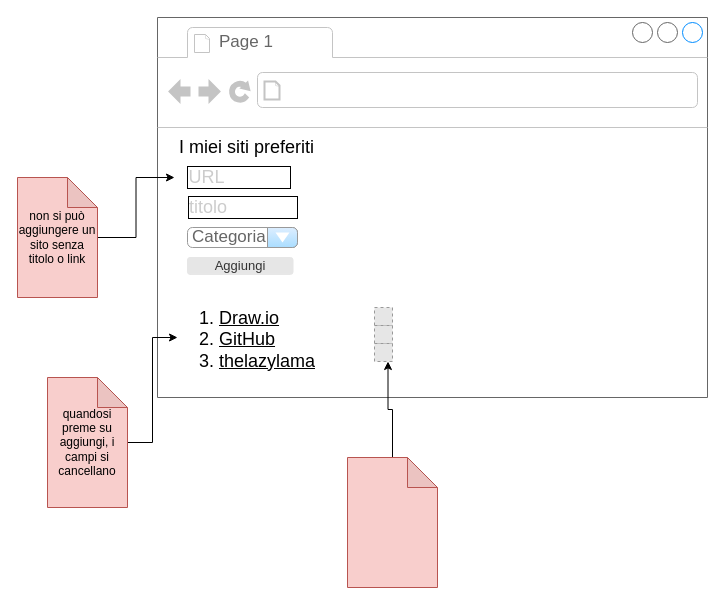
Some shapes in this 725 by 605 pixel diagram are drawn without their labels. Grey dashed boxes stand in for pictures. Here are the shapes that lost their labels. From the top down, the centre of each, then its label:
the point at 412,90: https://www.myfavouritelinks.io
the point at 392,522: il cestino viene visualizzato quando si pasa con il mouse sulla lista
